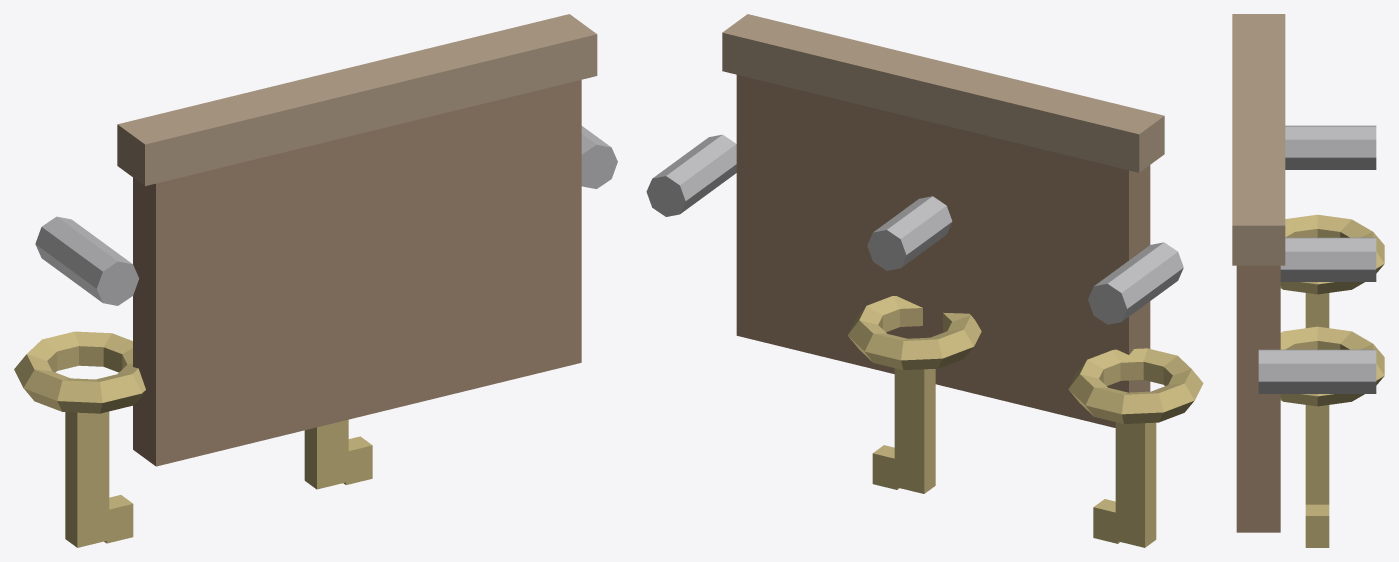
The model's file is aces_porta_chaves2.glb.
3 views of the same model, side by side, from view 1: azimuth 30°, elevation 25°; view 2: azimuth 150°, elevation 25°; view 3: azimuth 270°, elevation 25° (orthographic). The views are drawn at different scales.
Visible parts, largest first — view 1: ACES_PORTA_CHAVES2; view 2: ACES_PORTA_CHAVES2; view 3: ACES_PORTA_CHAVES2.
Boxes of the visible parts, box(x1,y1,x2,y2) form: ACES_PORTA_CHAVES2: box(14, 14, 617, 547); ACES_PORTA_CHAVES2: box(646, 14, 1203, 547); ACES_PORTA_CHAVES2: box(1232, 14, 1384, 547).
Size of the model in its own units: 0.212 by 0.1535 by 0.0518.
